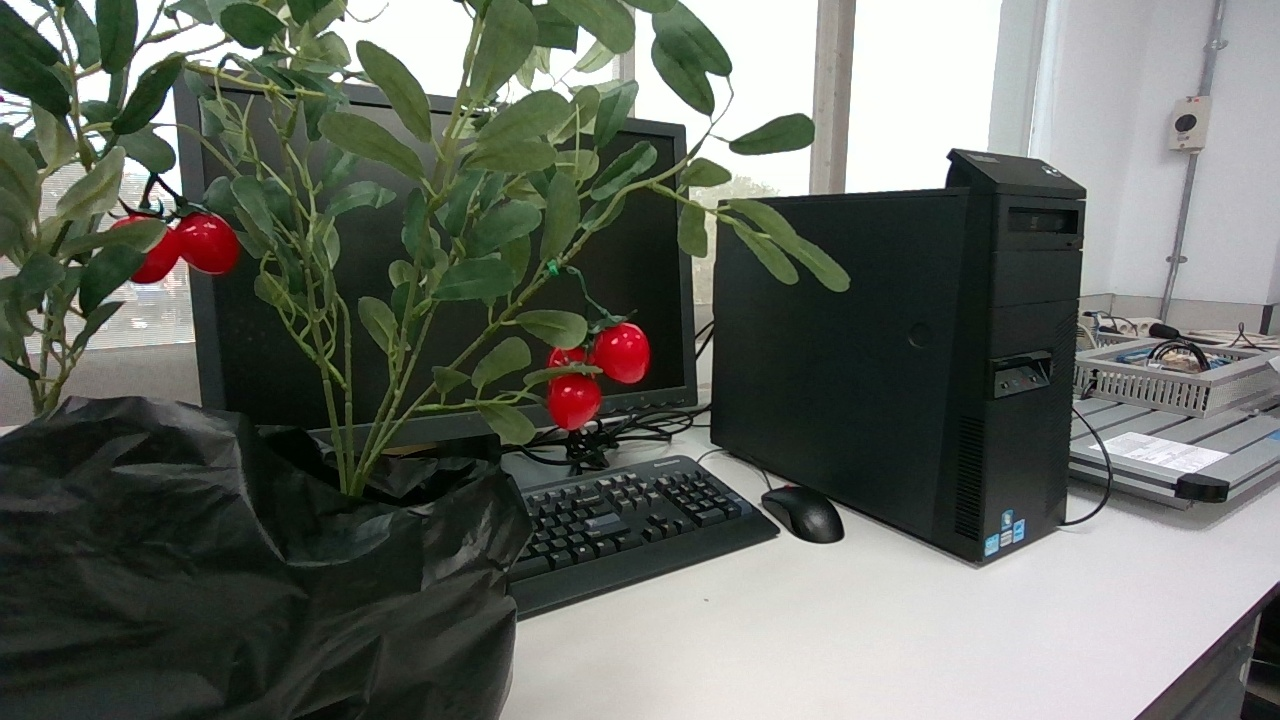peduncle: (567, 266, 588, 296)
strawberry: (174, 211, 239, 274), (589, 321, 651, 384), (547, 373, 602, 428), (129, 227, 180, 283), (547, 347, 586, 366)
